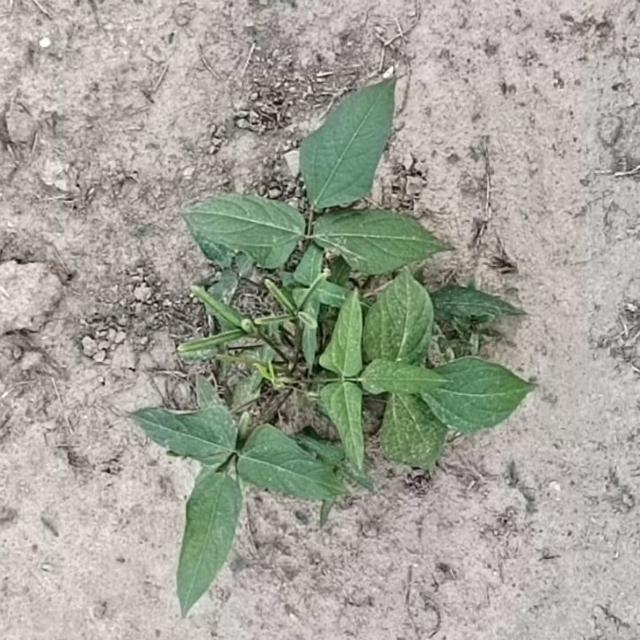plant: (135, 80, 532, 613), (182, 287, 259, 353), (232, 363, 271, 410)
